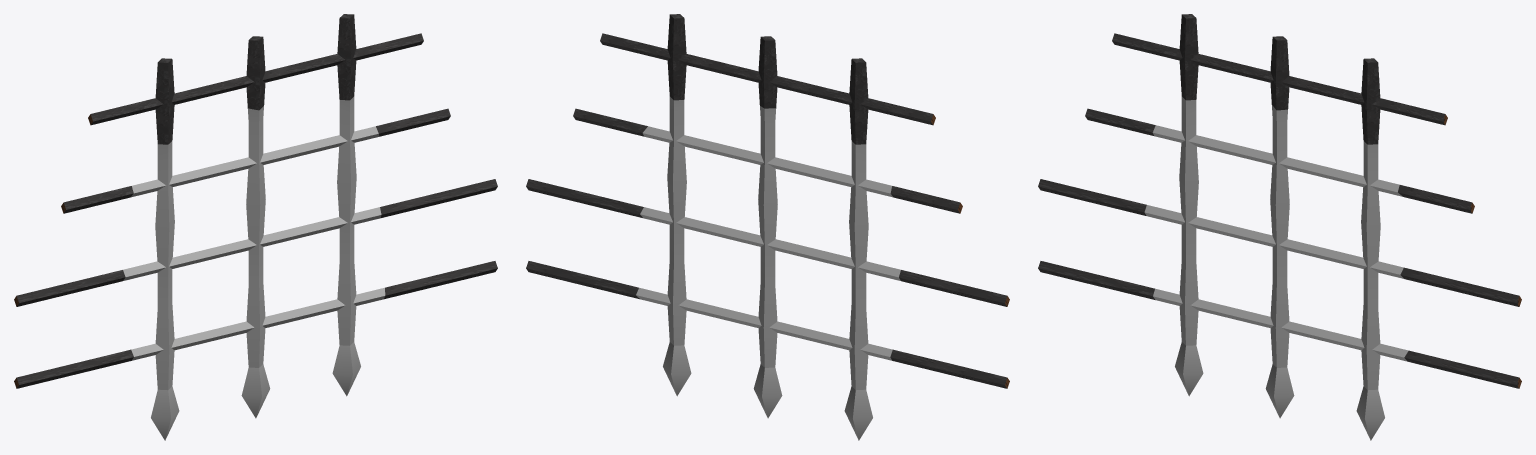
File: gatewithopacity.fbx
The picture shows the model from 3 angles, left to right: view 1: azimuth 30°, elevation 25°; view 2: azimuth 150°, elevation 25°; view 3: azimuth 330°, elevation 25°; orthographic projection.
Parts seen in each view (by area): view 1: pCube25562; view 2: pCube25562; view 3: pCube25562.
Part boxes in pixels (box(x1,y1,x2,y2)): pCube25562: box(14, 14, 497, 440); pCube25562: box(526, 14, 1009, 440); pCube25562: box(1038, 14, 1521, 440).
Size of the model in its own units: 3.58 by 2.71 by 0.1577.
